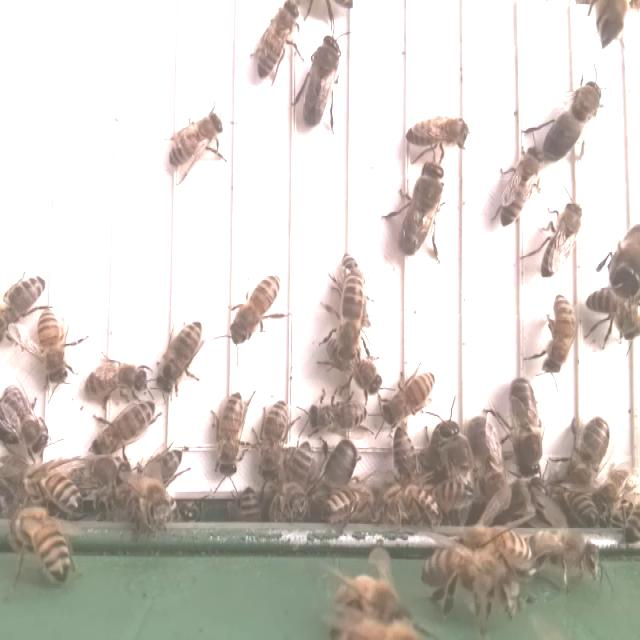Drone: (542, 75, 606, 170), (393, 158, 447, 259), (506, 377, 545, 482), (301, 32, 342, 129)
Worker: (227, 271, 283, 348), (497, 144, 545, 228), (538, 198, 583, 282), (91, 400, 155, 458), (582, 283, 640, 346), (0, 379, 48, 454), (167, 110, 226, 171), (159, 318, 203, 395), (384, 366, 438, 427), (541, 291, 578, 379), (255, 393, 290, 482), (212, 388, 245, 479), (335, 271, 366, 364), (36, 307, 72, 387), (0, 272, 48, 331), (402, 113, 474, 152), (86, 359, 149, 400), (306, 394, 367, 436)
